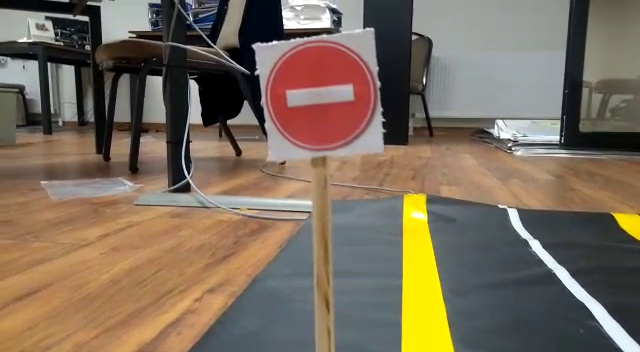girisi_olmayan_yol: (257, 37, 382, 153)
